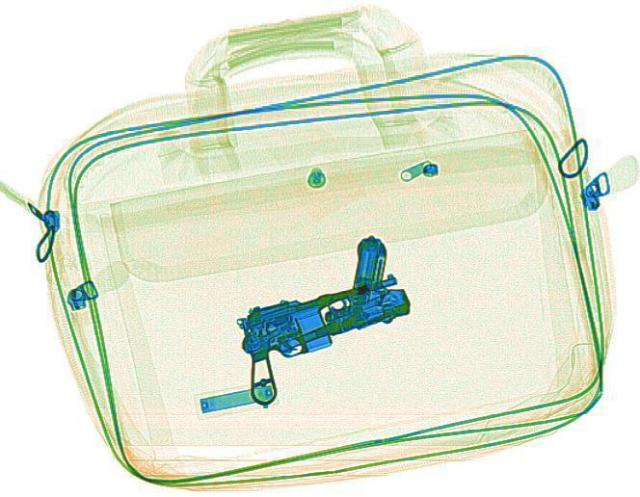Gun: (210, 268, 438, 405), (230, 233, 424, 354)
